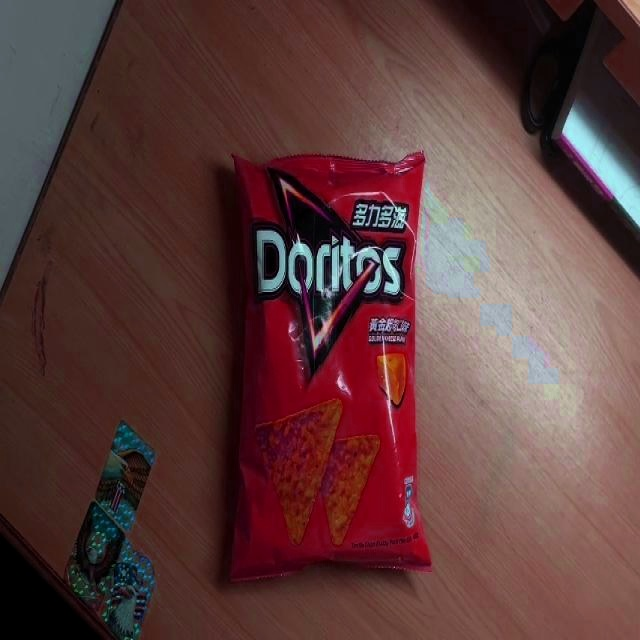Doritos: (230, 147, 435, 577)
